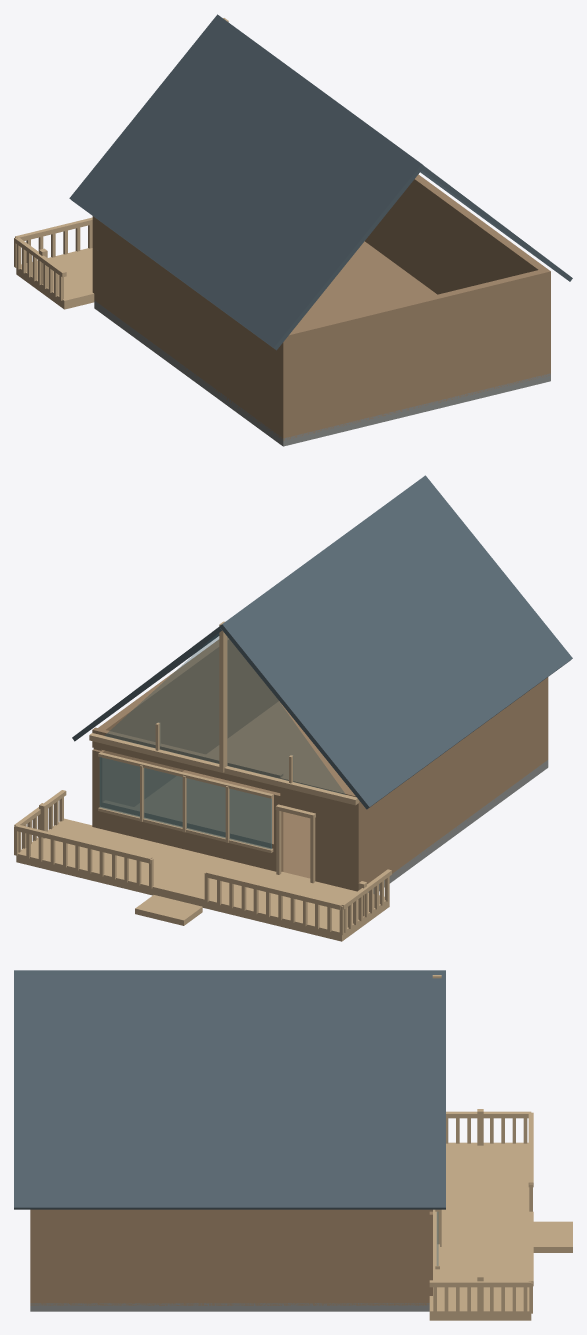
File: alaska_aframe_v0.glb
The picture shows the model from 3 angles, top to bottom: view 1: azimuth 30°, elevation 25°; view 2: azimuth 150°, elevation 25°; view 3: azimuth 270°, elevation 25°; orthographic projection. The views are drawn at different scales.
Parts seen in each view (by area): view 1: roof_left, rear_wall, sidewall_left, sidewall_right, cabin_floor, foundation, front_deck, roof_right, deck_edge_rail_-1; view 2: roof_left, sidewall_left, front_deck, cabin_floor, sidewall_right, front_glass, gable_glass_left, gable_glass_right, front_wall_right_sill, front_wall_left, front_wall_right_header, gable_lower_beam (+10 smaller); view 3: roof_right, sidewall_right, front_deck, foundation, cabin_floor, roof_left, deck_step, deck_side_rail_1, deck_side_rail_-1.
Boxes of the visible parts, x1=… form: roof_left: x1=69, y1=14, x2=424, y2=350; rear_wall: x1=279, y1=270, x2=550, y2=437; sidewall_left: x1=94, y1=217, x2=290, y2=437; sidewall_right: x1=365, y1=174, x2=550, y2=374; cabin_floor: x1=94, y1=241, x2=550, y2=440; foundation: x1=94, y1=300, x2=550, y2=446; front_deck: x1=16, y1=248, x2=94, y2=309; roof_right: x1=420, y1=166, x2=572, y2=281; deck_edge_rail_-1: x1=15, y1=217, x2=92, y2=240; roof_left: x1=219, y1=475, x2=572, y2=809; sidewall_left: x1=353, y1=677, x2=548, y2=883; front_deck: x1=16, y1=818, x2=389, y2=941; cabin_floor: x1=135, y1=701, x2=548, y2=884; sidewall_right: x1=93, y1=638, x2=278, y2=806; front_glass: x1=99, y1=757, x2=271, y2=849; gable_glass_left: x1=227, y1=637, x2=345, y2=794; gable_glass_right: x1=105, y1=633, x2=218, y2=763; front_wall_right_sill: x1=92, y1=800, x2=283, y2=871; front_wall_left: x1=314, y1=784, x2=360, y2=891; front_wall_right_header: x1=92, y1=727, x2=283, y2=792; gable_lower_beam: x1=89, y1=733, x2=359, y2=805; roof_right: x1=14, y1=975, x2=445, y2=1209; sidewall_right: x1=30, y1=1209, x2=429, y2=1299; front_deck: x1=429, y1=1142, x2=531, y2=1320; foundation: x1=30, y1=1303, x2=429, y2=1311; cabin_floor: x1=30, y1=1299, x2=429, y2=1305; roof_left: x1=14, y1=970, x2=445, y2=974; deck_step: x1=533, y1=1221, x2=572, y2=1252; deck_side_rail_1: x1=429, y1=1280, x2=531, y2=1287; deck_side_rail_-1: x1=446, y1=1111, x2=531, y2=1118.
Bounding box in the file's own units: 11.14 × 8.23 × 15.4.
